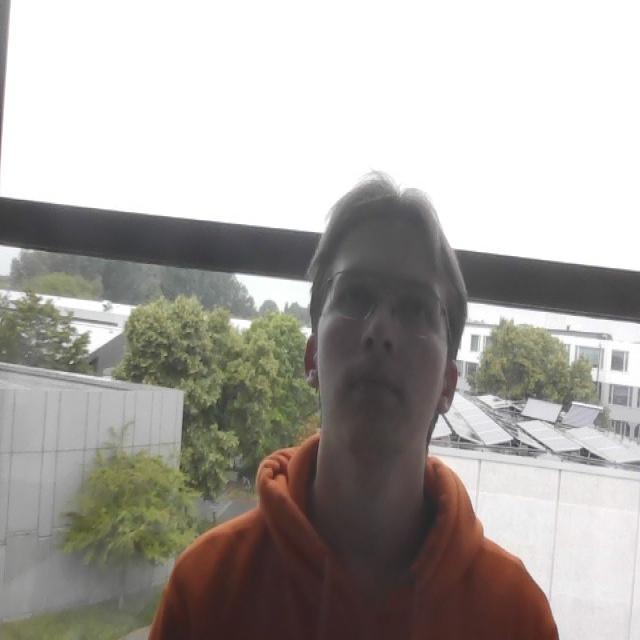opened_eye: (334, 283, 376, 317), (398, 296, 438, 331)
